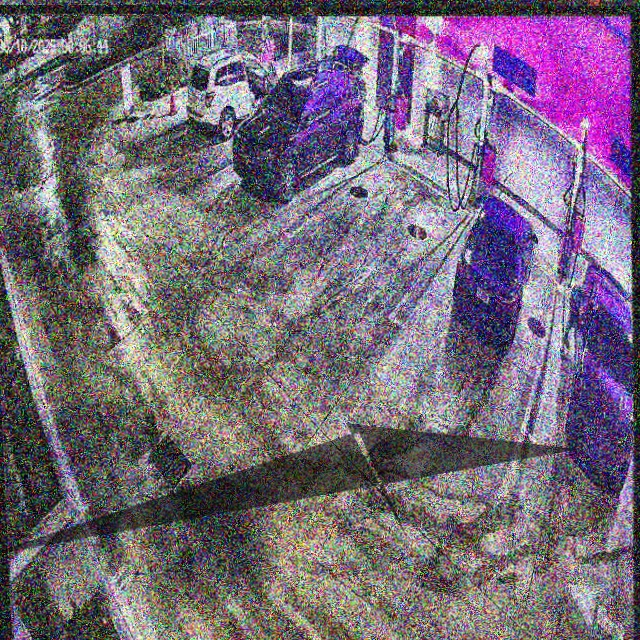Car: (227, 51, 367, 201), (451, 191, 538, 348)
